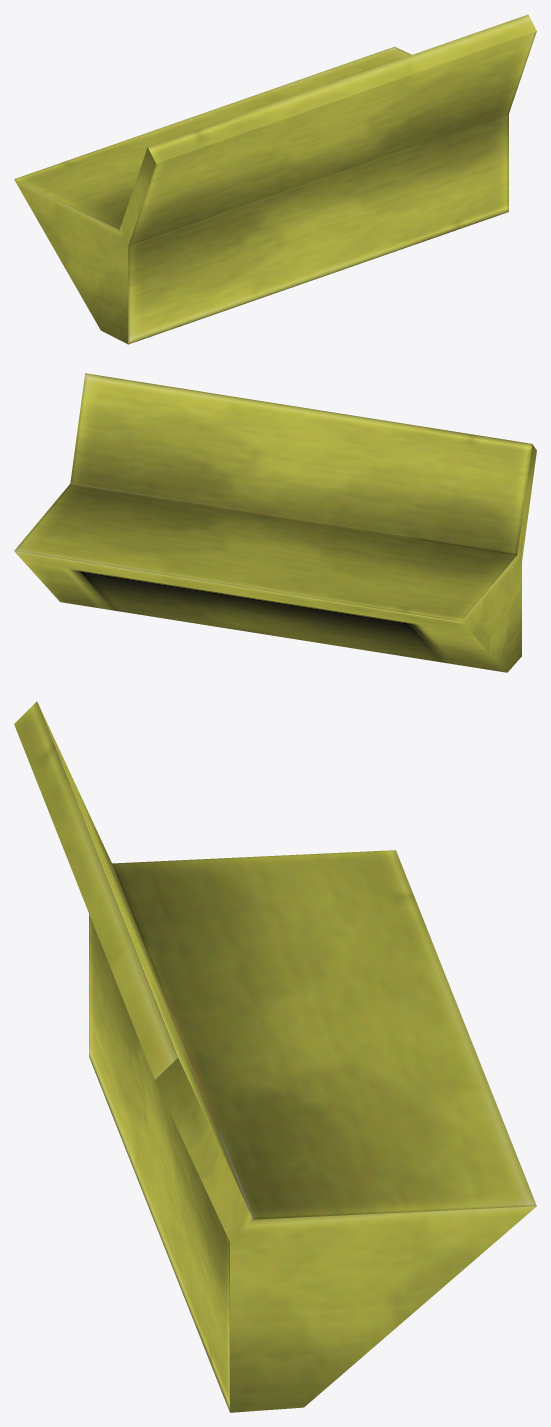
File: bench02.glb
The picture shows the model from 3 angles, top to bottom: view 1: azimuth 30°, elevation 25°; view 2: azimuth 150°, elevation 25°; view 3: azimuth 270°, elevation 25°; orthographic projection. The views are drawn at different scales.
Parts seen in each view (by area): view 1: bench02; view 2: bench02; view 3: bench02.
Boxes of the visible parts, x1,y1,x2,y2 form: bench02: [14, 14, 536, 344]; bench02: [14, 373, 536, 672]; bench02: [14, 701, 536, 1412].
Size of the model in its own units: 307 by 134 by 177.
1 material, 1 textured.
